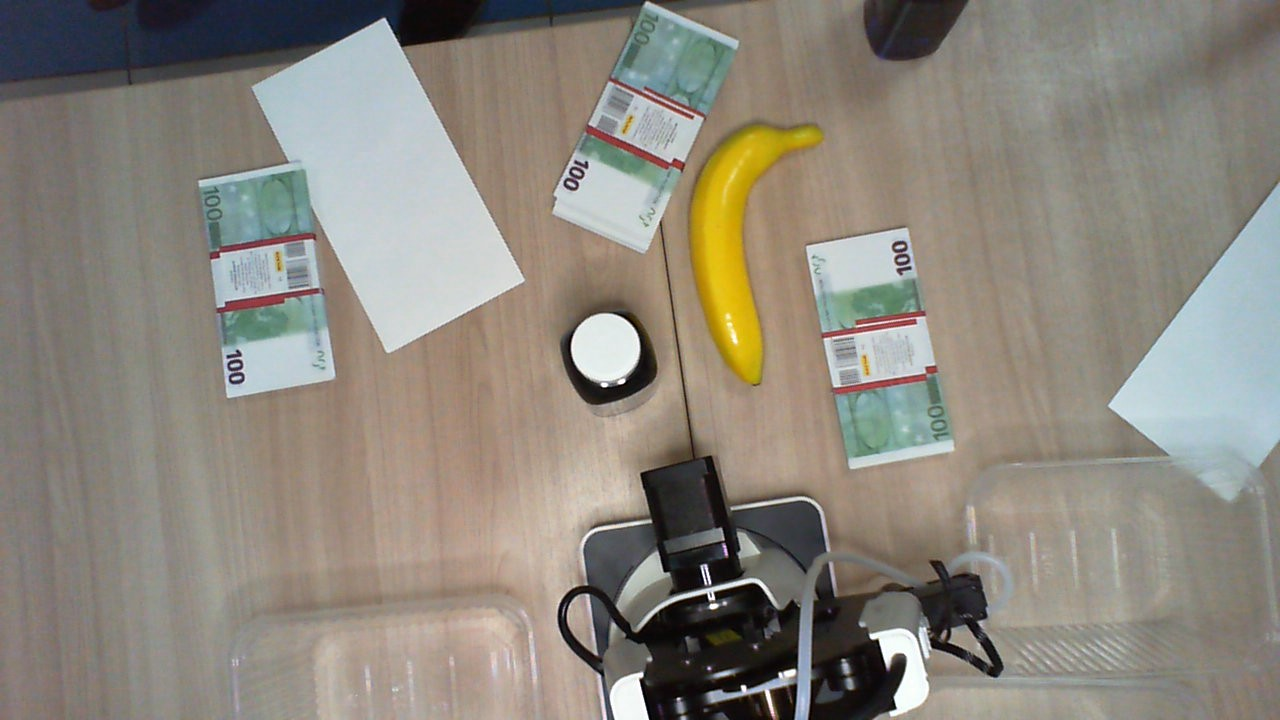banana: (688, 122, 825, 386)
bottle: (560, 310, 658, 411)
convert: (250, 15, 526, 354), (1111, 181, 1280, 502)
money: (553, 4, 738, 253), (805, 227, 954, 470), (198, 161, 335, 400)
